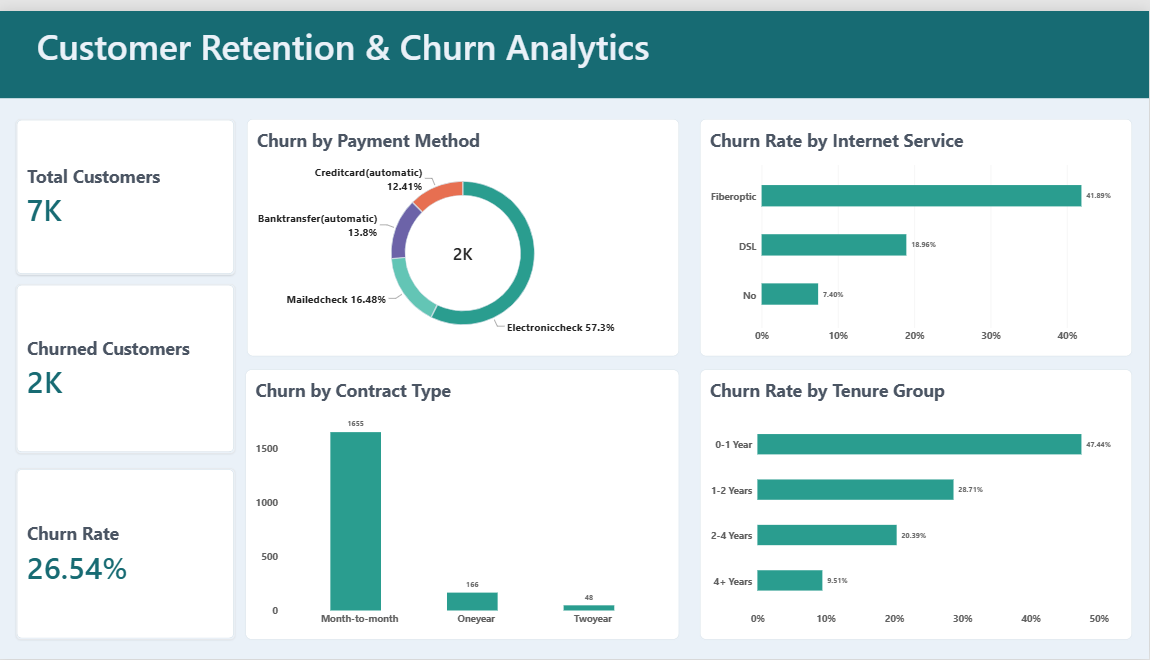

What the dashboard file says about the page in this screenshot:
{"tool":"powerbi","page":{"name":"Page 1","canvas":[1920,1080],"ordinal":0},"visuals":[{"type":"cardVisual","title":"Total Customers","fields":{"Data":["in.Total_Cust"]},"box":[30,180,365,260],"z":0},{"type":"cardVisual","fields":{"Data":["in.Churned_Cust"]},"box":[30,455,365,282.5],"z":1},{"type":"cardVisual","fields":{"Data":["in.Churn_Rate_Pct"]},"box":[30,762.5,365,285],"z":2},{"type":"clusteredColumnChart","title":"Churn by Contract Type","fields":{"Category":["in.Contract"],"Y":["in.Churned_Cust"]},"box":[412.5,597.5,722.5,450],"z":3},{"type":"donutChart","title":"Churn by Payment Method","fields":{"Category":["in.PaymentMethod"],"Y":["in.Churned_Cust"]},"box":[415,180,720,395],"z":4},{"type":"clusteredBarChart","title":"Churn Rate by Tenure Group","fields":{"Category":["in.TenureGroup"],"Y":["in.Churn_Rate_Pct"]},"box":[1170,597.5,720,450],"z":5},{"type":"clusteredBarChart","title":"Churn Rate by Internet Service","fields":{"Category":["in.InternetService"],"Y":["in.Churn_Rate_Pct"]},"box":[1170,180,720,395],"z":6},{"type":"textbox","box":[0,0,1920,145],"z":7}]}

Visuals, with their boxes in screenshot pixels (x1, y1, x2, y2), scaled from the page's 1920x1080 canvas onto the 1150x660 screenshot:
"Total Customers" cardVisual: bbox=(18, 110, 237, 269)
cardVisual - in.Churned_Cust: bbox=(18, 278, 237, 451)
cardVisual - in.Churn_Rate_Pct: bbox=(18, 466, 237, 640)
"Churn by Contract Type" clusteredColumnChart: bbox=(247, 365, 680, 640)
"Churn by Payment Method" donutChart: bbox=(249, 110, 680, 351)
"Churn Rate by Tenure Group" clusteredBarChart: bbox=(701, 365, 1132, 640)
"Churn Rate by Internet Service" clusteredBarChart: bbox=(701, 110, 1132, 351)
textbox: bbox=(0, 0, 1149, 89)
